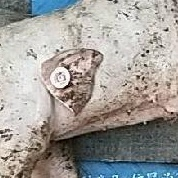text: (41, 56, 80, 95)
